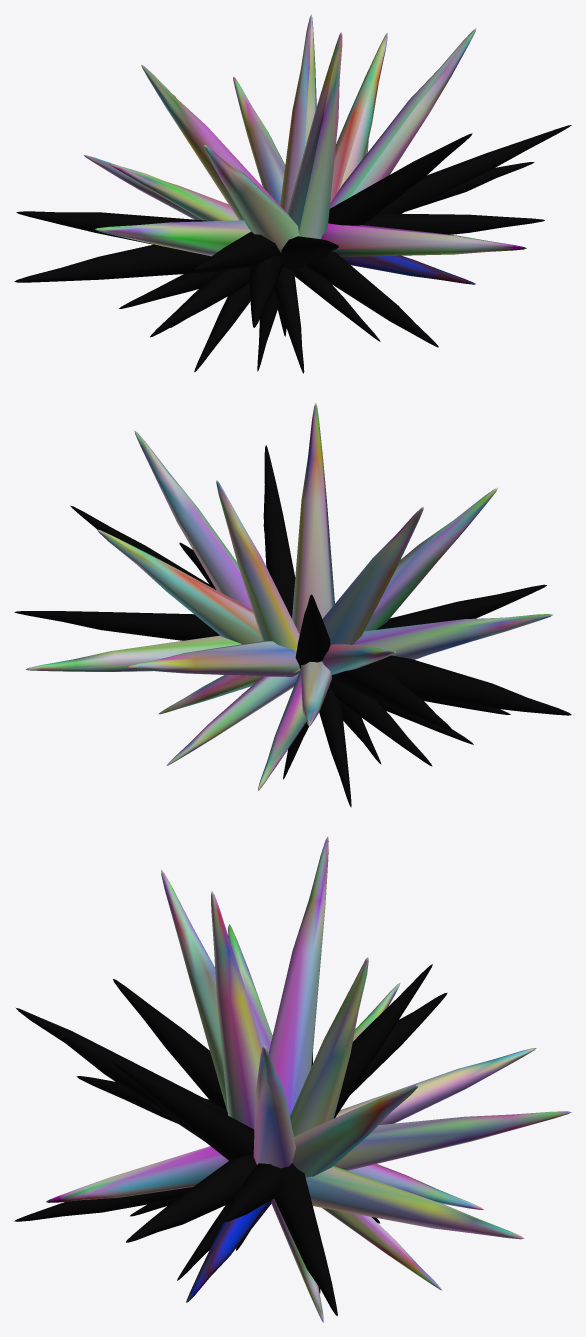
File: Items_Spikes_01.glb
3 views of the same model, one above another, from view 1: azimuth 30°, elevation 25°; view 2: azimuth 150°, elevation 25°; view 3: azimuth 270°, elevation 25° (orthographic). The views are drawn at different scales.
Parts seen in each view (by area): view 1: Items_Spikes_01_0; view 2: Items_Spikes_01_0; view 3: Items_Spikes_01_0.
Part boxes in pixels (x1,y1,x2,y2): Items_Spikes_01_0: [14, 14, 571, 373]; Items_Spikes_01_0: [14, 402, 571, 807]; Items_Spikes_01_0: [14, 837, 571, 1322].
Bounding box in the file's own units: 1.56 × 0.937 × 1.15.
